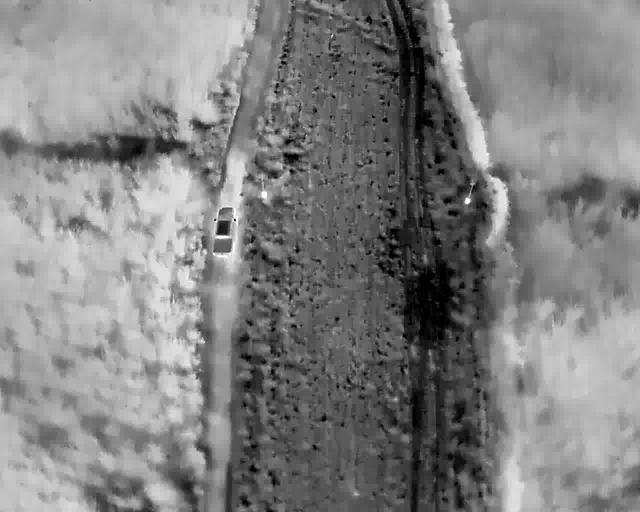car: (212, 206, 236, 257)
